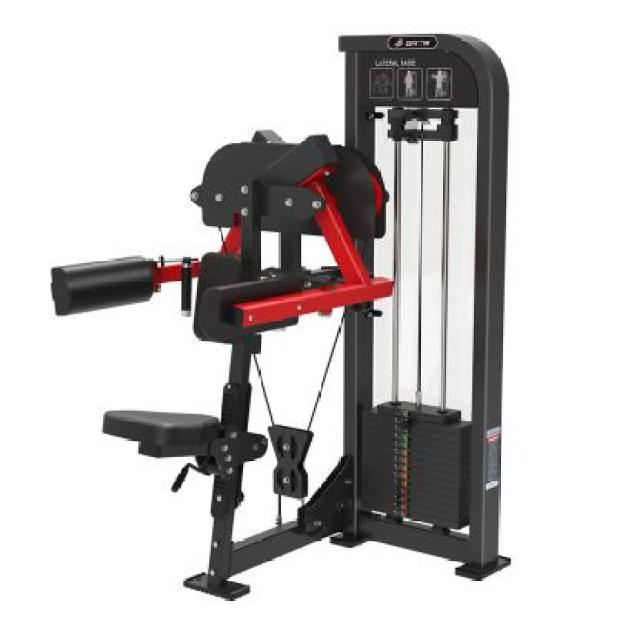lateral raises machine: (52, 131, 514, 603)
